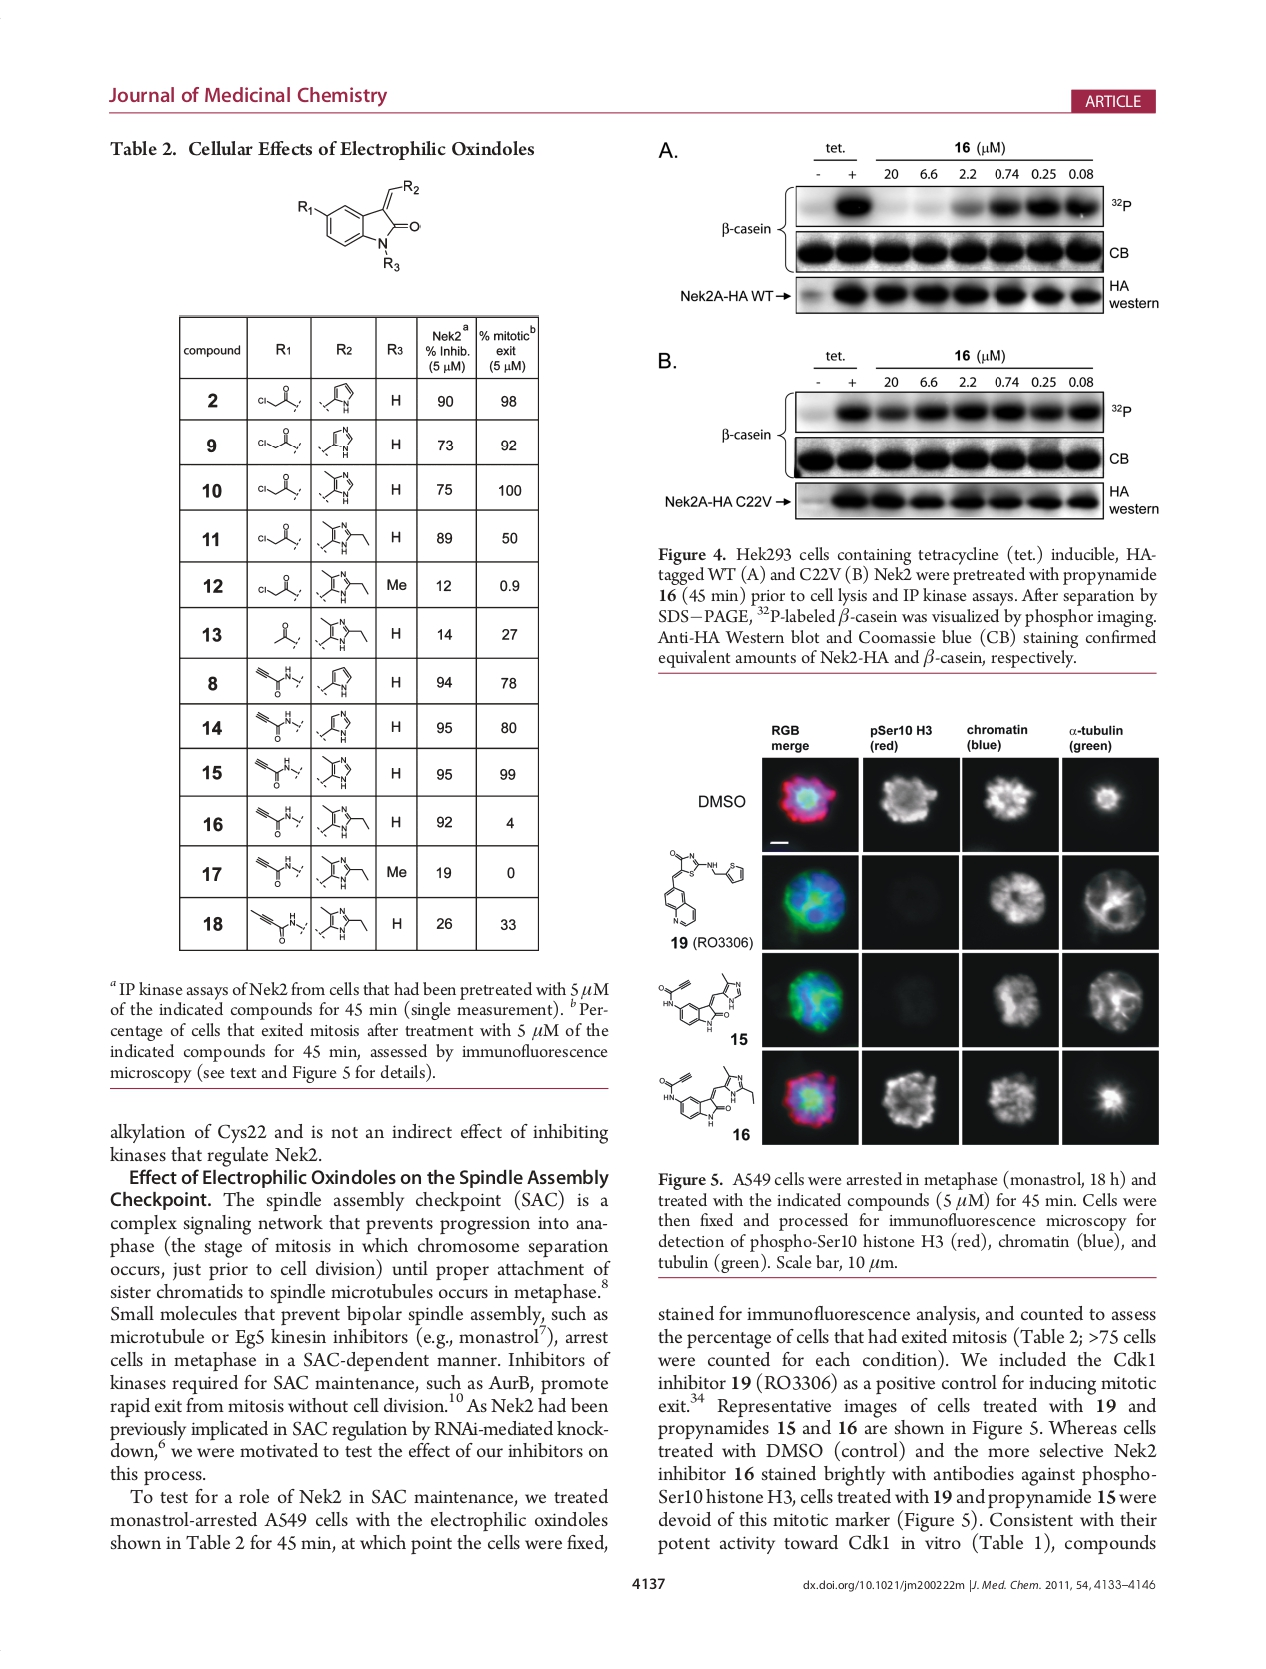exist_molecular: (297, 177, 423, 274), (661, 847, 746, 928), (656, 969, 743, 1035), (247, 904, 309, 946), (316, 516, 371, 557), (315, 801, 371, 840), (314, 567, 370, 605), (314, 903, 368, 942), (313, 854, 368, 891), (314, 614, 368, 652), (253, 852, 306, 888), (251, 664, 305, 698), (251, 754, 305, 789), (253, 802, 305, 836), (254, 709, 305, 743), (255, 469, 305, 501), (255, 572, 305, 602), (254, 426, 303, 456), (314, 754, 352, 793), (255, 383, 303, 414), (257, 521, 305, 551), (314, 707, 352, 743), (316, 424, 354, 460), (318, 468, 354, 505), (315, 664, 354, 698), (318, 380, 356, 414), (273, 618, 305, 650)
